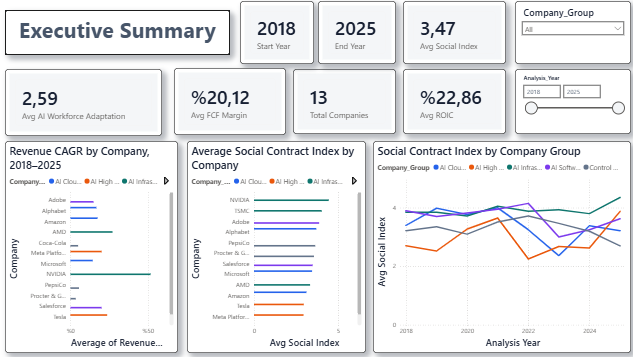

The page's visual inventory and layout, read from the dashboard file:
{"tool":"powerbi","page":{"name":"Executive Summary","canvas":[1280,720],"ordinal":0},"visuals":[{"type":"cardVisual","fields":{"Data":["Final_AI_Impact_Data.Total Companies"]},"box":[590,142,206,130],"z":0},{"type":"cardVisual","fields":{"Data":["Final_AI_Impact_Data.Start Year","select"]},"box":[484,6,148,126],"z":1000},{"type":"cardVisual","fields":{"Data":["Final_AI_Impact_Data.End Year"]},"box":[14,142,314,134],"z":2000},{"type":"cardVisual","fields":{"Data":["Final_AI_Impact_Data.Avg Social Index"]},"box":[810,6,206,126],"z":3000},{"type":"cardVisual","fields":{"Data":["Final_AI_Impact_Data.End Year"]},"box":[640,6,156,126],"z":4000},{"type":"cardVisual","fields":{"Data":["Final_AI_Impact_Data.Avg ROIC"]},"box":[810,142,206,130],"z":5000},{"type":"cardVisual","fields":{"Data":["Final_AI_Impact_Data.Avg FCF Margin"]},"box":[352,140,224,134],"z":6000},{"type":"clusteredBarChart","title":"Revenue CAGR by Company, 2018–2025","fields":{"Category":["vw_company_summary.Company"],"Series":["vw_company_summary.Company_Group"],"Y":["Avg(vw_company_summary.Revenue_CAGR_2018_2025)"]},"box":[14,286,346,424],"z":7000},{"type":"clusteredBarChart","title":"Average Social Contract Index by Company","fields":{"Category":["Final_AI_Impact_Data.Company"],"Series":["Final_AI_Impact_Data.Company_Group"],"Y":["Final_AI_Impact_Data.Avg Social Index"]},"box":[378,286,358,424],"z":8000},{"type":"lineChart","title":"Social Contract Index by Company Group","fields":{"Category":["Final_AI_Impact_Data.Analysis_Year"],"Series":["Final_AI_Impact_Data.Company_Group"],"Y":["Final_AI_Impact_Data.Avg Social Index"]},"box":[750,286,516,424],"z":9000},{"type":"slicer","fields":{"Values":["vw_company_summary.Company_Group"]},"box":[1034,6,232,126],"z":10000},{"type":"slicer","fields":{"Values":["Final_AI_Impact_Data.Analysis_Year"]},"box":[1034,142,232,130],"z":11000},{"type":"textbox","box":[14,24,450,90],"z":12000}]}

Visuals, with their boxes in screenshot pixels (x1, y1, x2, y2), scaled from the page's 1280x720 canvas onto the 633x357 screenshot:
cardVisual - Final_AI_Impact_Data.Total Companies: <region>292, 70, 394, 135</region>
cardVisual - Final_AI_Impact_Data.Start Year x select: <region>239, 3, 313, 65</region>
cardVisual - Final_AI_Impact_Data.End Year: <region>7, 70, 162, 137</region>
cardVisual - Final_AI_Impact_Data.Avg Social Index: <region>401, 3, 502, 65</region>
cardVisual - Final_AI_Impact_Data.End Year: <region>316, 3, 394, 65</region>
cardVisual - Final_AI_Impact_Data.Avg ROIC: <region>401, 70, 502, 135</region>
cardVisual - Final_AI_Impact_Data.Avg FCF Margin: <region>174, 69, 285, 136</region>
"Revenue CAGR by Company, 2018–2025" clusteredBarChart: <region>7, 142, 178, 352</region>
"Average Social Contract Index by Company" clusteredBarChart: <region>187, 142, 364, 352</region>
"Social Contract Index by Company Group" lineChart: <region>371, 142, 626, 352</region>
slicer - vw_company_summary.Company_Group: <region>511, 3, 626, 65</region>
slicer - Final_AI_Impact_Data.Analysis_Year: <region>511, 70, 626, 135</region>
textbox: <region>7, 12, 229, 57</region>
